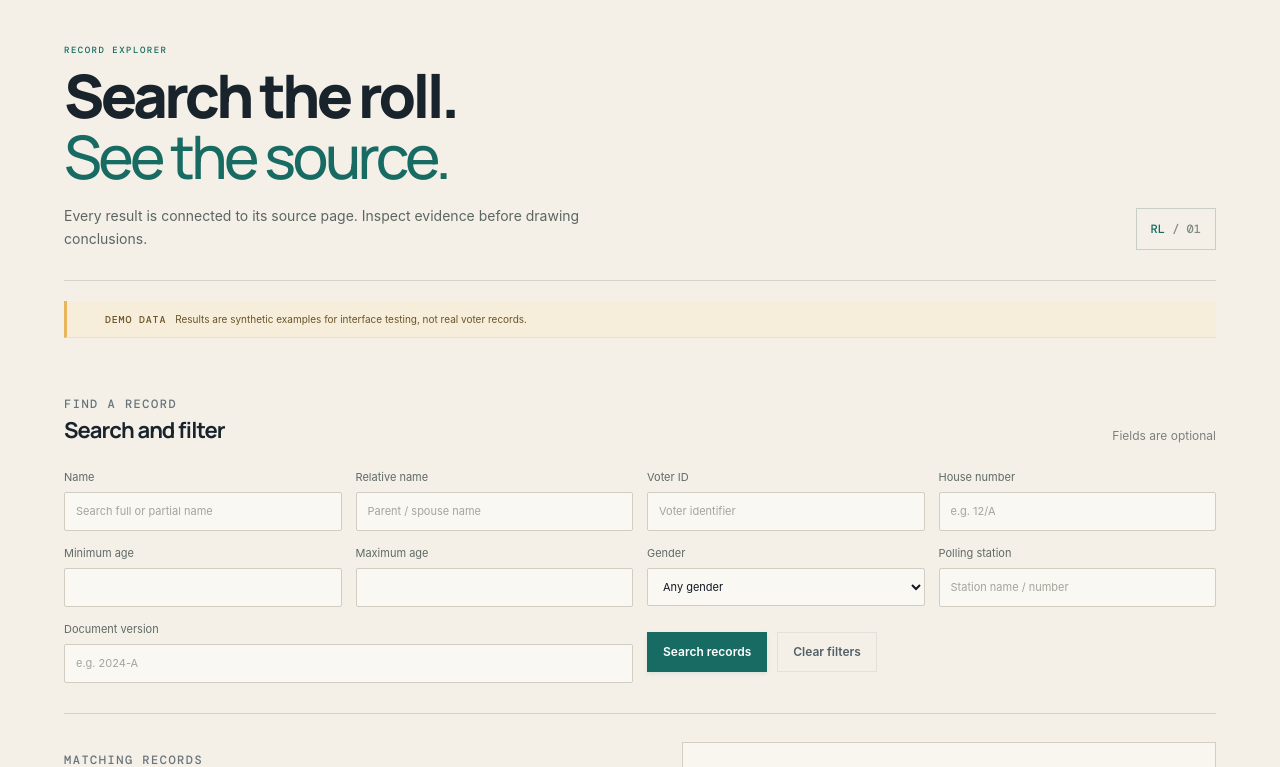
Scenario: ExplorePage › shows empty state for unmatched filters
Type "No such synthetic record" into the field labelled "Name".
click(203, 512); type("No such synthetic record")  # box [64,492,342,531]
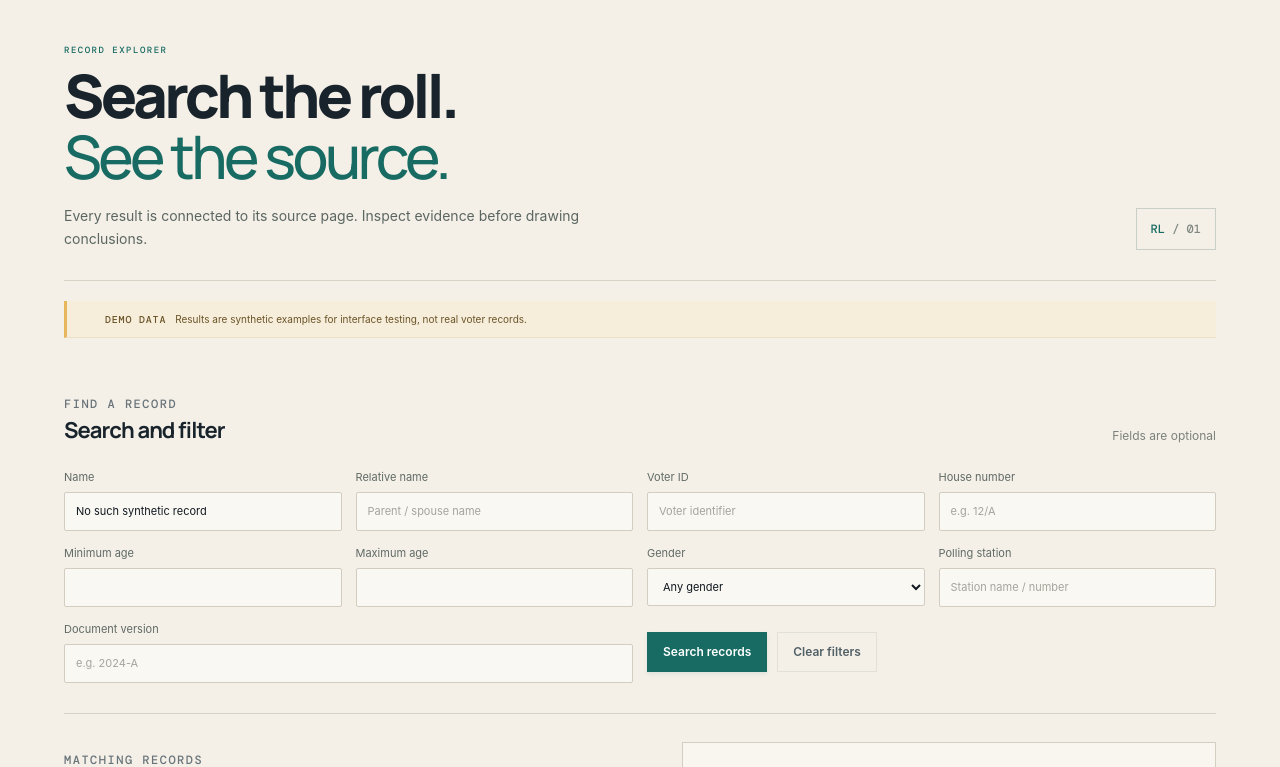
Click the button "Search records".
click(707, 652)  # box [647,632,767,672]
(page scrolled)
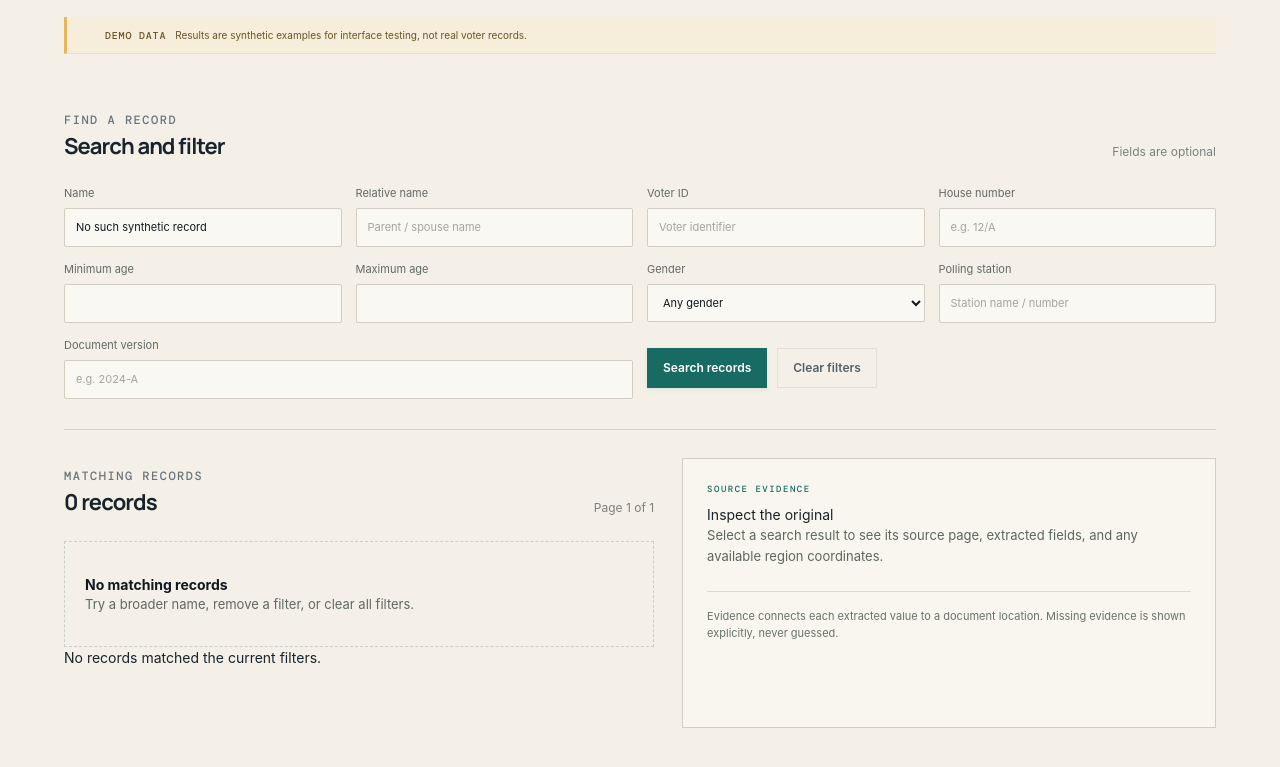
expect the text "No matching records" is shown: met, box [85,576,228,593]
